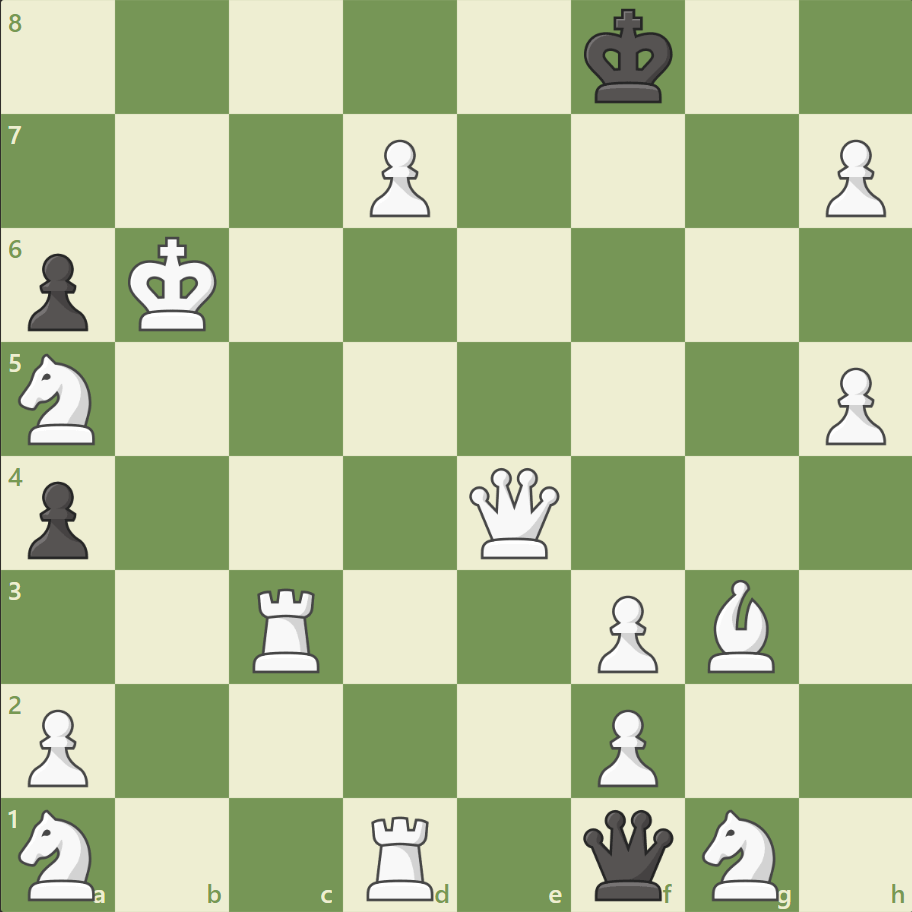B: (698, 574, 782, 676)
K: (124, 231, 224, 339)
N: (11, 348, 108, 450), (11, 802, 108, 904), (692, 802, 789, 904)
P: (20, 700, 95, 791), (361, 132, 435, 223), (815, 132, 889, 223), (815, 359, 889, 450), (588, 586, 662, 677), (588, 700, 662, 791)
Q: (464, 463, 563, 562)
R: (246, 579, 329, 676), (360, 806, 442, 904)
k: (579, 4, 679, 112)
p: (20, 246, 95, 337), (20, 473, 95, 564)
q: (578, 804, 677, 903)
